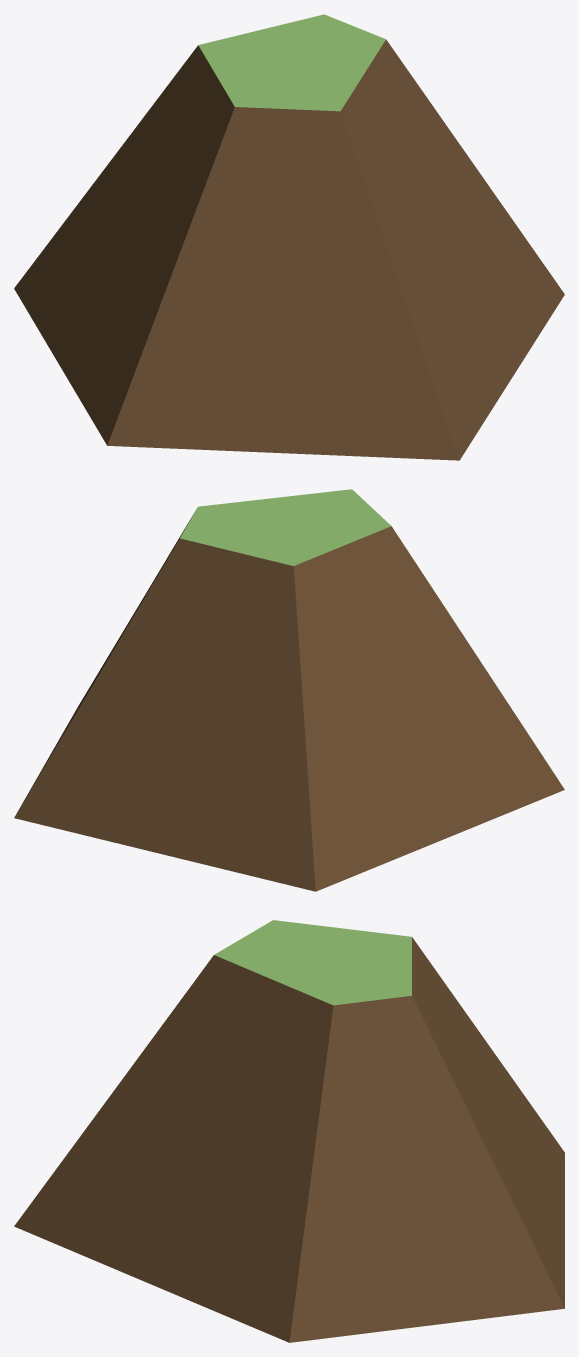
Rendered from rock-small-a.glb.
3 views of the same model, one above another, from view 1: azimuth 30°, elevation 25°; view 2: azimuth 150°, elevation 25°; view 3: azimuth 270°, elevation 25° (orthographic). The views are drawn at different scales.
Visible parts, largest first — view 1: rock_smallA; view 2: rock_smallA; view 3: rock_smallA.
Boxes of the visible parts, x1=… form: rock_smallA: x1=14, y1=14, x2=564, y2=460; rock_smallA: x1=14, y1=489, x2=564, y2=891; rock_smallA: x1=14, y1=920, x2=564, y2=1342.
Bounding box in the file's own units: 0.4151 × 0.22 × 0.4151.
